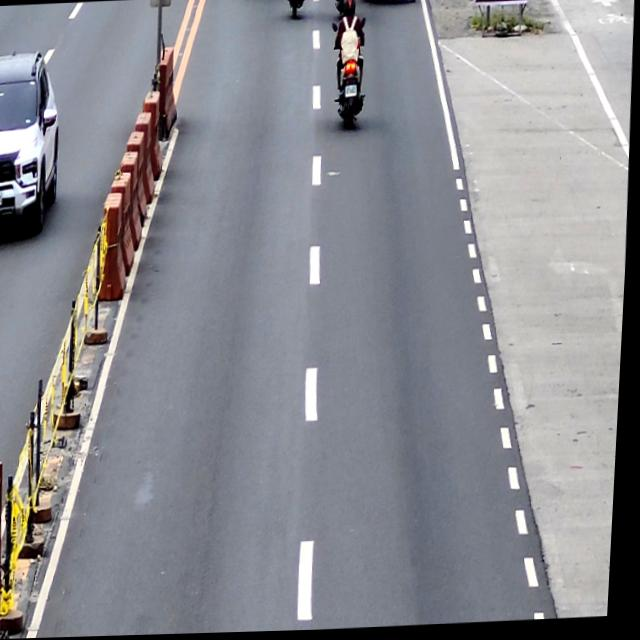License-Plate: (344, 86, 358, 100)
Motorcycle: (328, 19, 369, 131)
